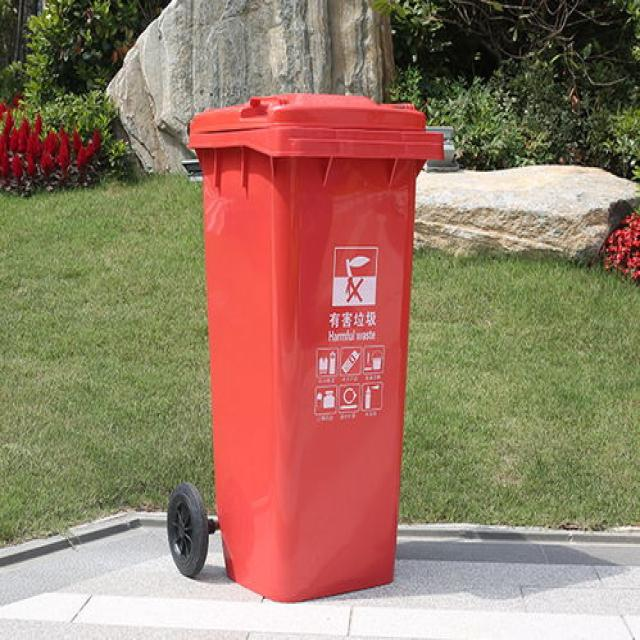garbage_bin: (186, 92, 444, 602)
